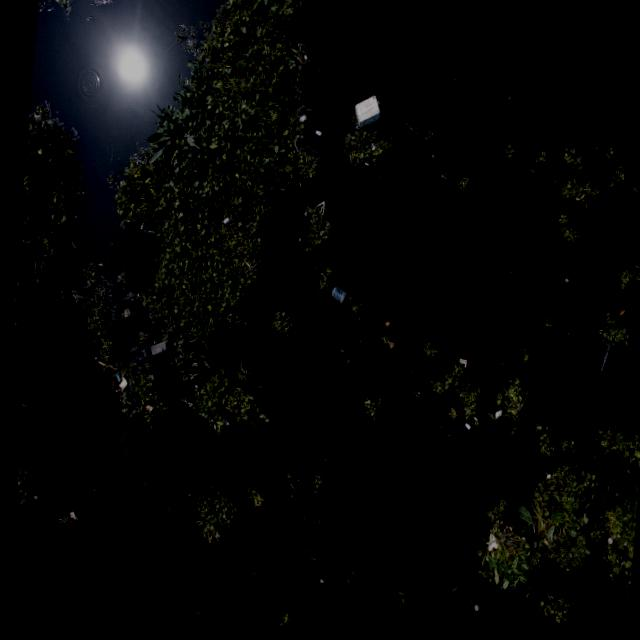plastic: (346, 85, 383, 133), (320, 280, 352, 312), (140, 329, 166, 357), (475, 528, 500, 556), (108, 369, 127, 393), (485, 405, 504, 427), (454, 416, 470, 439), (451, 356, 469, 371), (61, 506, 73, 522), (217, 213, 230, 226), (598, 536, 610, 549), (117, 305, 128, 319), (138, 402, 151, 413), (295, 113, 308, 123), (538, 472, 549, 483), (312, 128, 319, 139), (631, 464, 637, 476)
